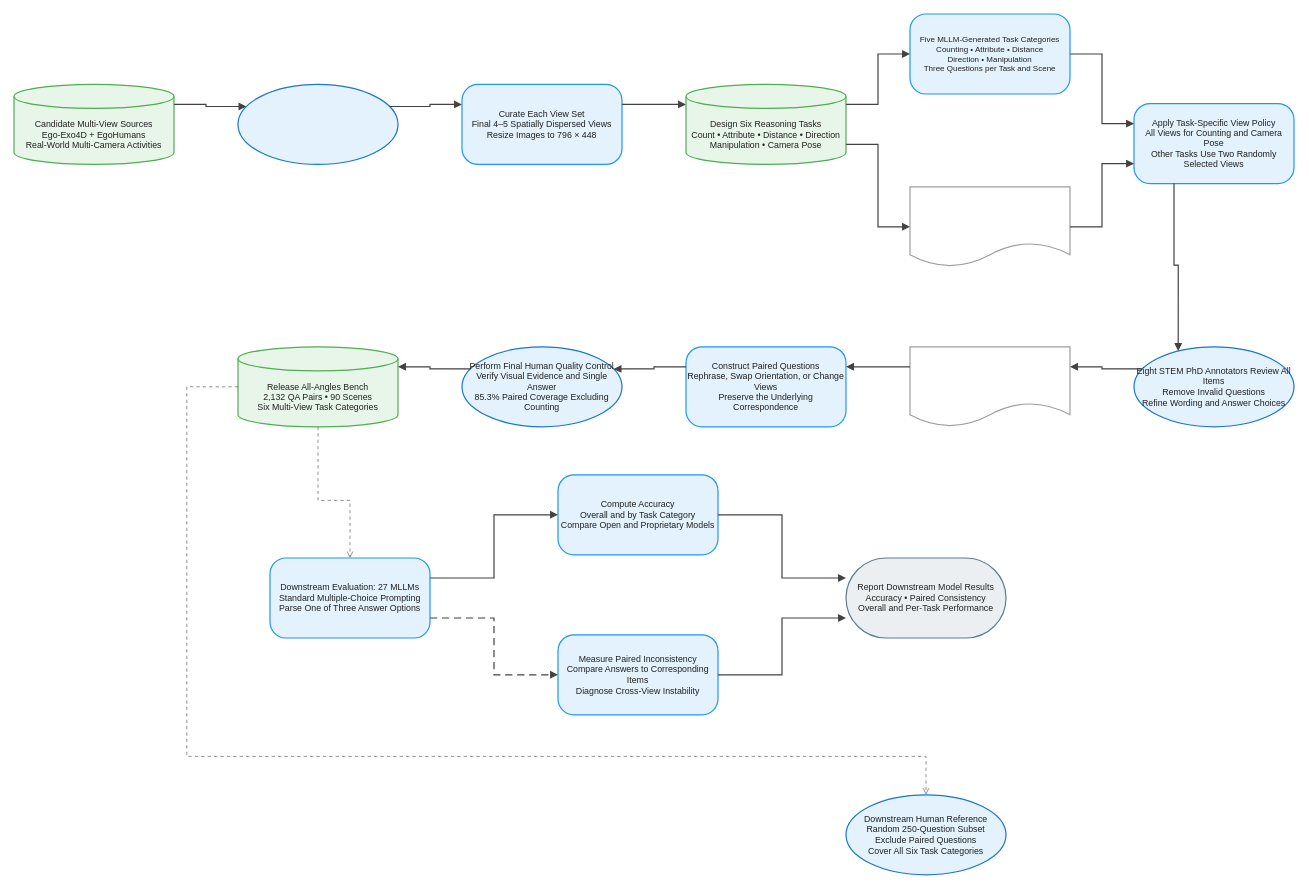
The diagram is 1309 pixels wide and 890 high, and some of its shapes have lost their labels. Here are the shapes that lost their labels. From the top down, the centre of each, then its label:
At (317,124): "Manual Scene Selection 83 Ego-Exo4D + 7 EgoHumans 90 Final Scenes".
At (989,226): "Camera Pose Estimation Dedicated Question Template One Question per Scene".
At (989,386): "Enforce the MCQ Contract Three Answer Options Exactly One Correct Answer".
